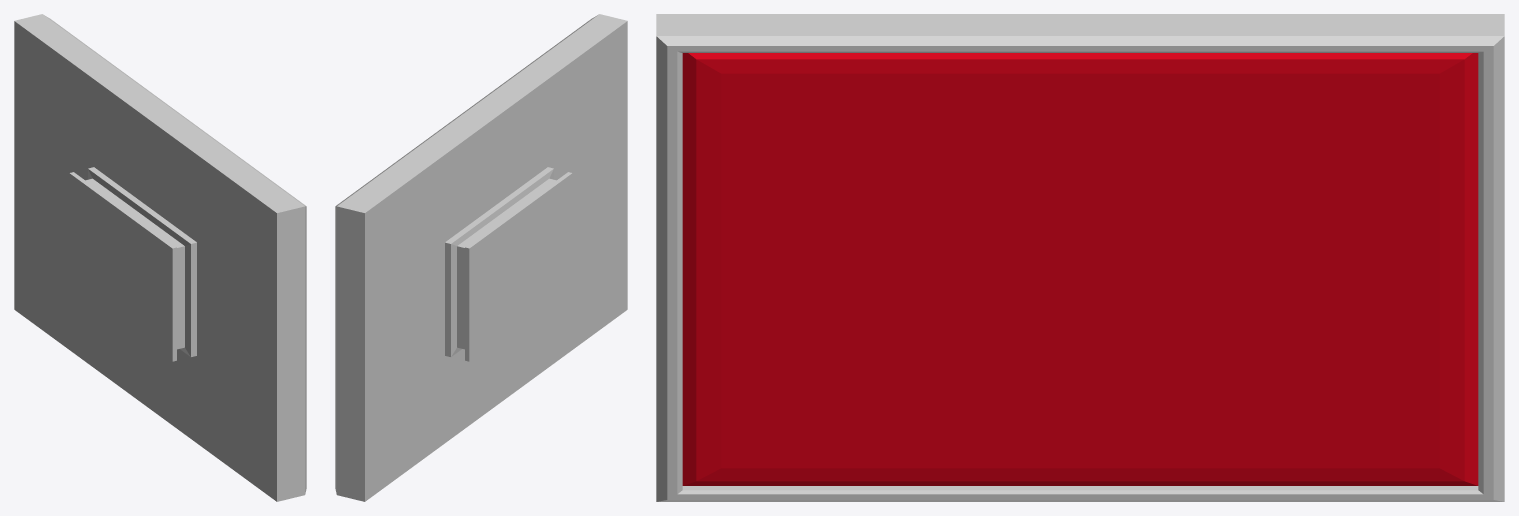
File: TVMonitor_LowPoly.fbx
The picture shows the model from 3 angles, left to right: view 1: azimuth 30°, elevation 25°; view 2: azimuth 150°, elevation 25°; view 3: azimuth 270°, elevation 25°; orthographic projection. The views are drawn at different scales.
Parts seen in each view (by area): view 1: Cube; view 2: Cube; view 3: Cube.
Boxes of the visible parts, <box> form: Cube: <box>14,14,306,501</box>; Cube: <box>335,14,627,501</box>; Cube: <box>656,14,1504,501</box>.
Size of the model in its own units: 25.35 by 121 by 200.
